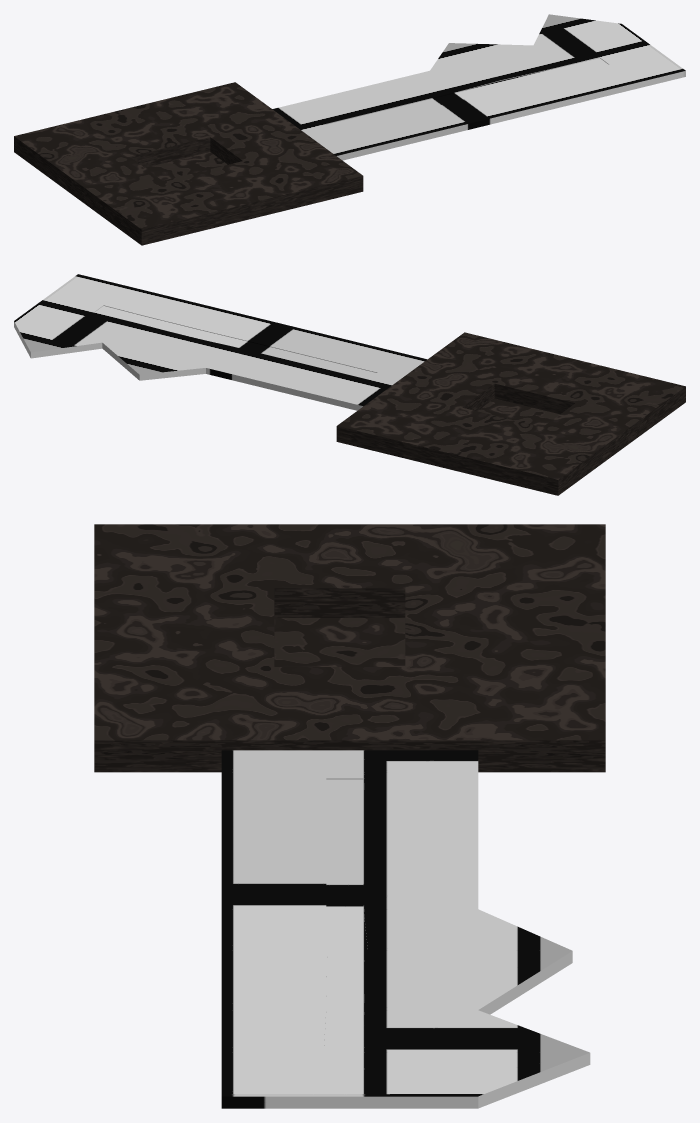
Rendered from key.glb.
3 views of the same model, one above another, from view 1: azimuth 30°, elevation 25°; view 2: azimuth 150°, elevation 25°; view 3: azimuth 270°, elevation 25° (orthographic). The views are drawn at different scales.
Parts seen in each view (by area): view 1: Cube.001, Cube; view 2: Cube.001, Cube; view 3: Cube.001, Cube.
Boxes of the visible parts, left/top/right/bottom form: Cube.001: left=14, top=82, right=363, bottom=245; Cube: left=272, top=14, right=685, bottom=160; Cube.001: left=336, top=332, right=685, bottom=495; Cube: left=14, top=274, right=427, bottom=410; Cube.001: left=94, top=524, right=605, bottom=772; Cube: left=221, top=750, right=590, bottom=1108.
Size of the model in its own units: 5.2 by 0.138 by 2.
2 materials, 2 textured.
